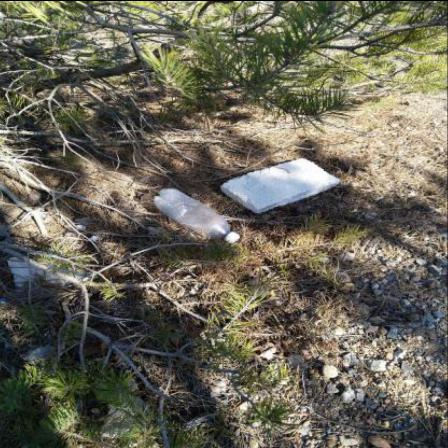Bottle: (155, 189, 241, 245)
Bottle cap: (228, 233, 242, 245)
Plastic bag - wrapper: (102, 379, 152, 439)
Styrofoam piece: (222, 158, 342, 213), (91, 235, 100, 241)
